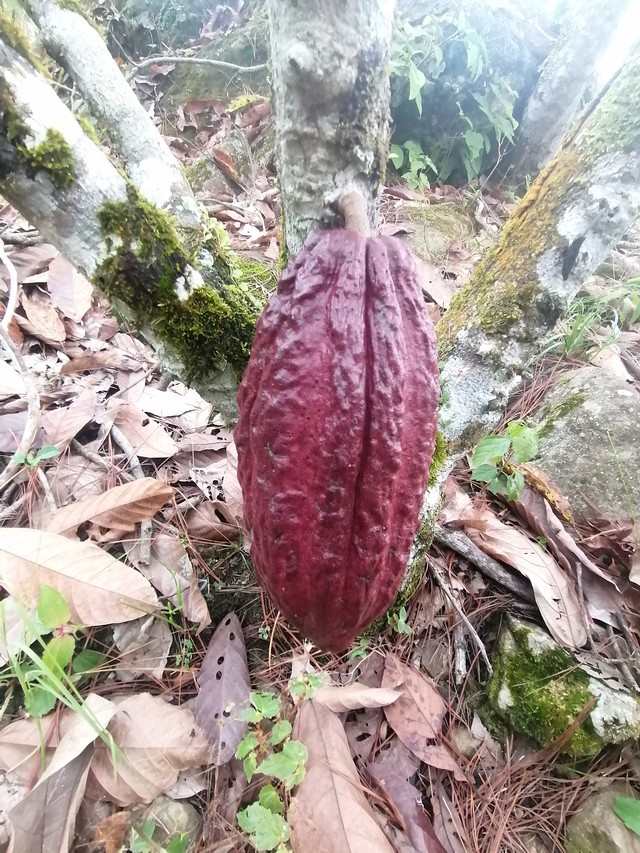Health: (228, 224, 448, 655)
